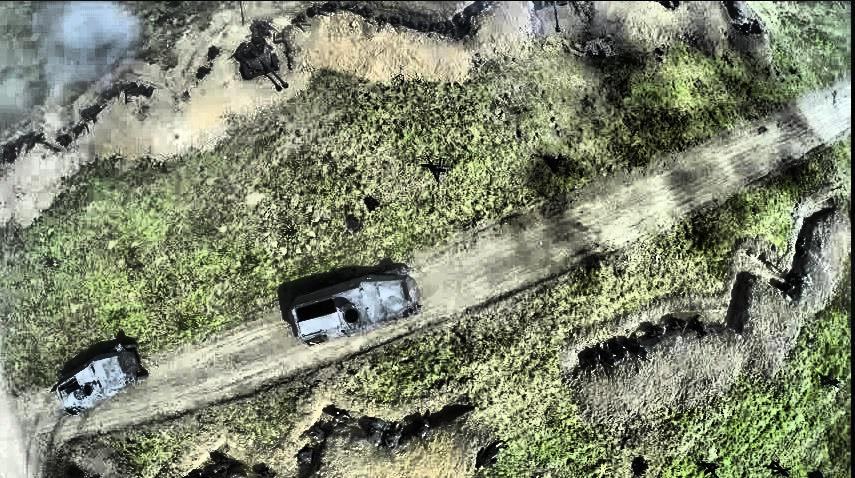military-vehicle: (289, 266, 411, 338), (51, 342, 146, 415)
